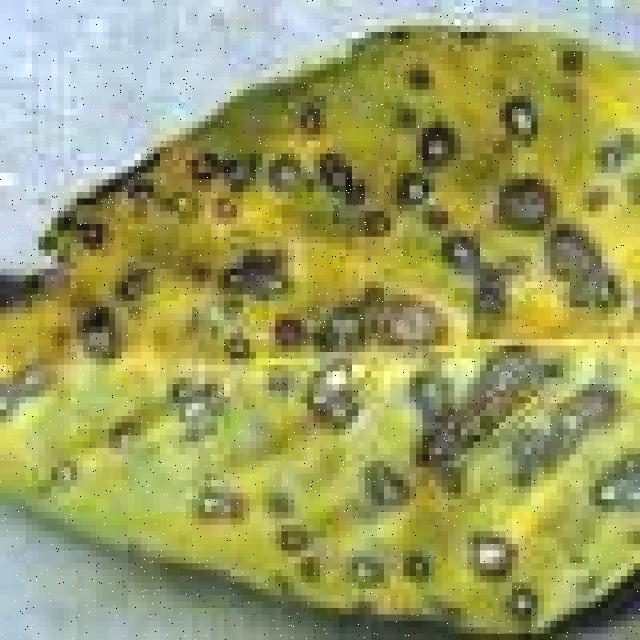leaf spot: (15, 25, 633, 605)
